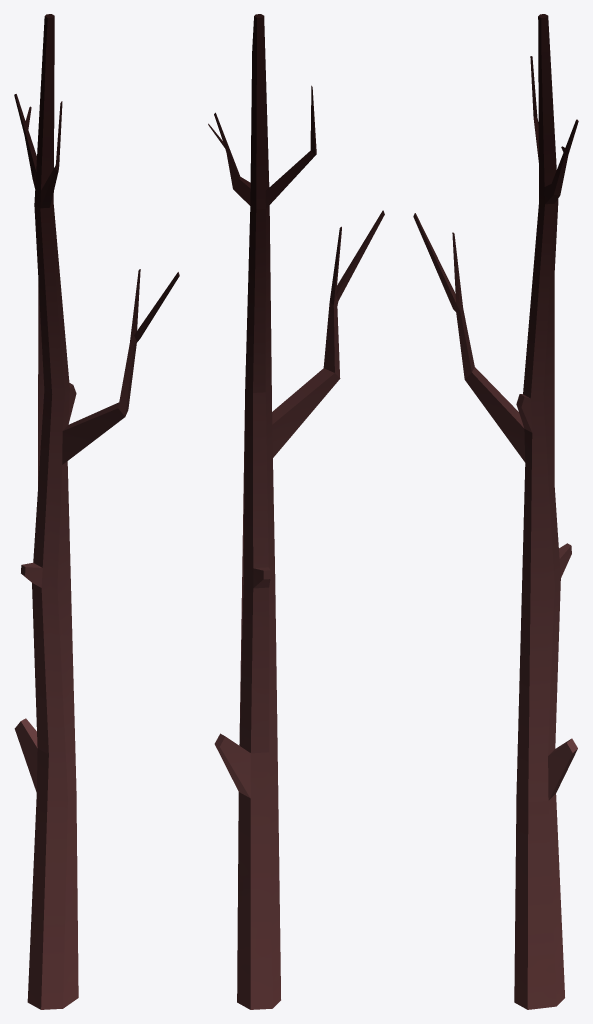
Rendered from Gradient_Tree_Dead_5_big.glb.
The picture shows the model from 3 angles, left to right: view 1: azimuth 90°, elevation 25°; view 2: azimuth 150°, elevation 25°; view 3: azimuth 270°, elevation 25°; orthographic projection.
Visible parts, largest first — view 1: Dead tree 5 big g; view 2: Dead tree 5 big g; view 3: Dead tree 5 big g.
Part boxes in pixels (x1,y1,x2,y2): Dead tree 5 big g: (14,14,179,1009); Dead tree 5 big g: (208,14,384,1009); Dead tree 5 big g: (413,14,578,1009).
Size of the model in its own units: 2.23 by 20.49 by 3.12.
1 material, 1 textured.
